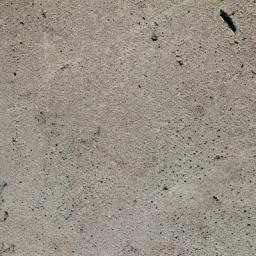FOD: (215, 9, 240, 37)
